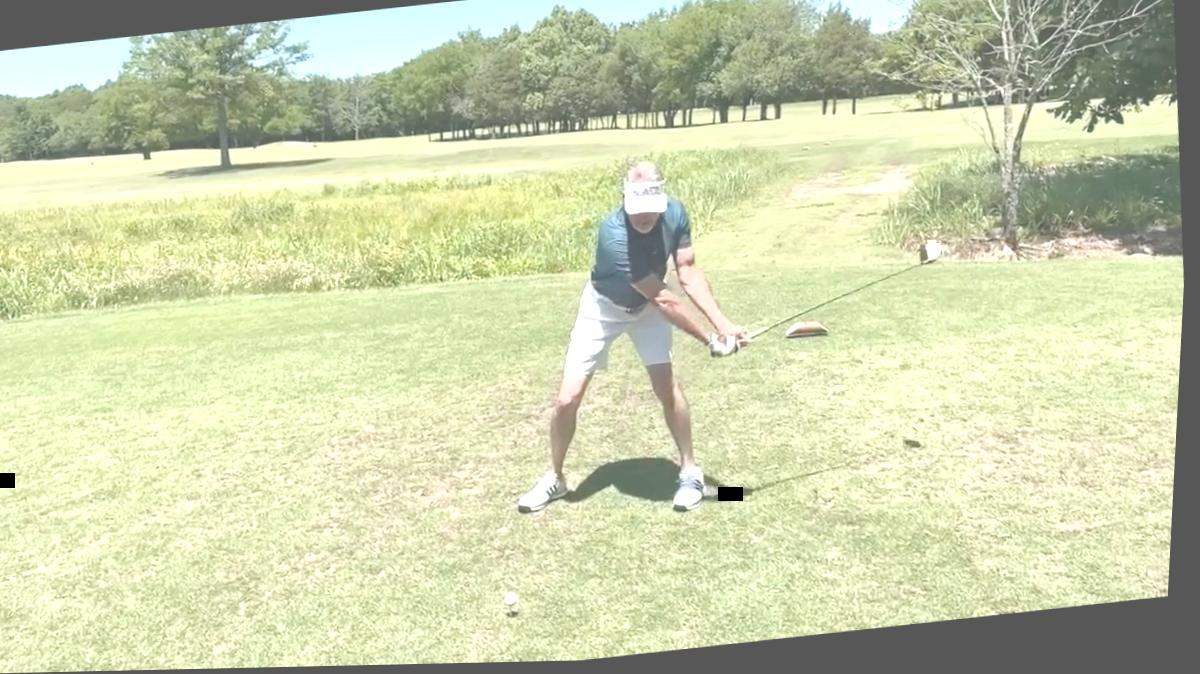ClubHead: (912, 243, 952, 273)
GolfBall: (507, 590, 529, 612)
